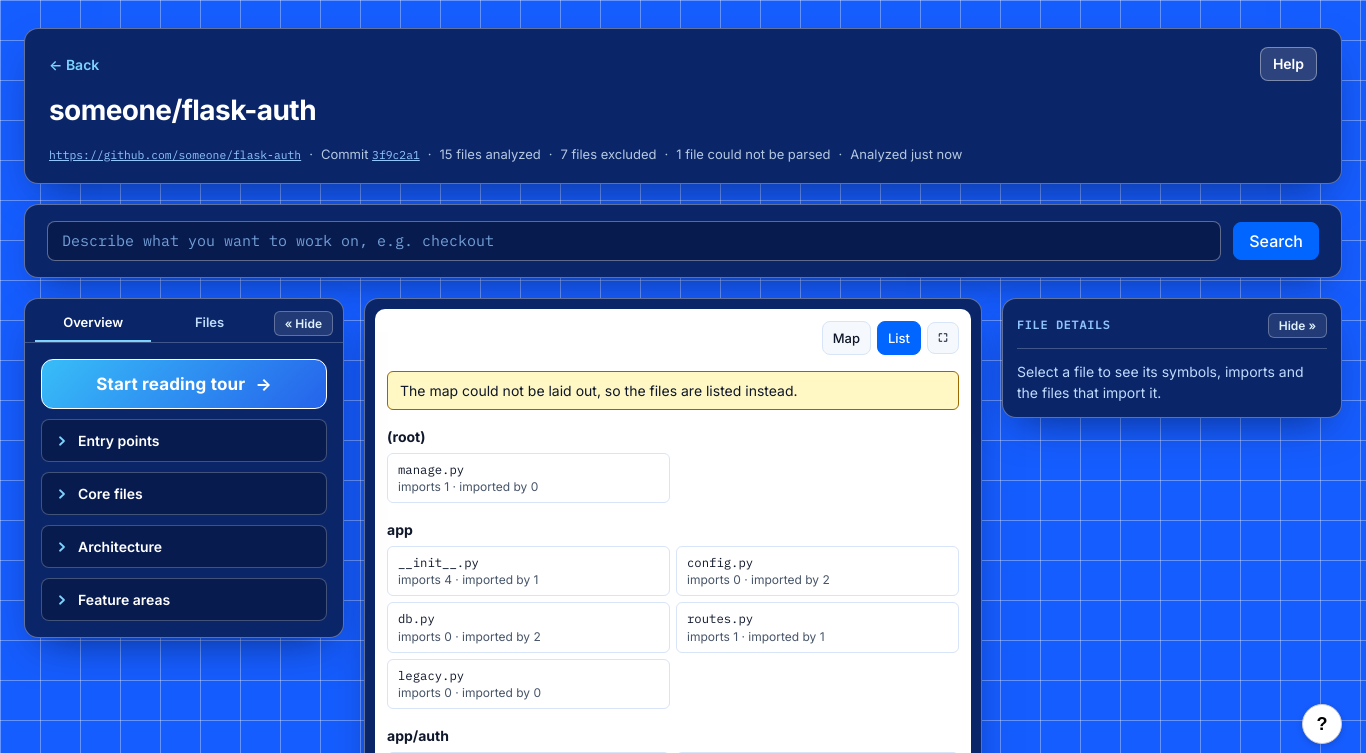
Test: AnalysisPage search › says when nothing matches
Type "kubernetes" into the search field named "Search this repository".
click(634, 240); type("kubernetes")  # box [47, 220, 1221, 260]
Then press Enter
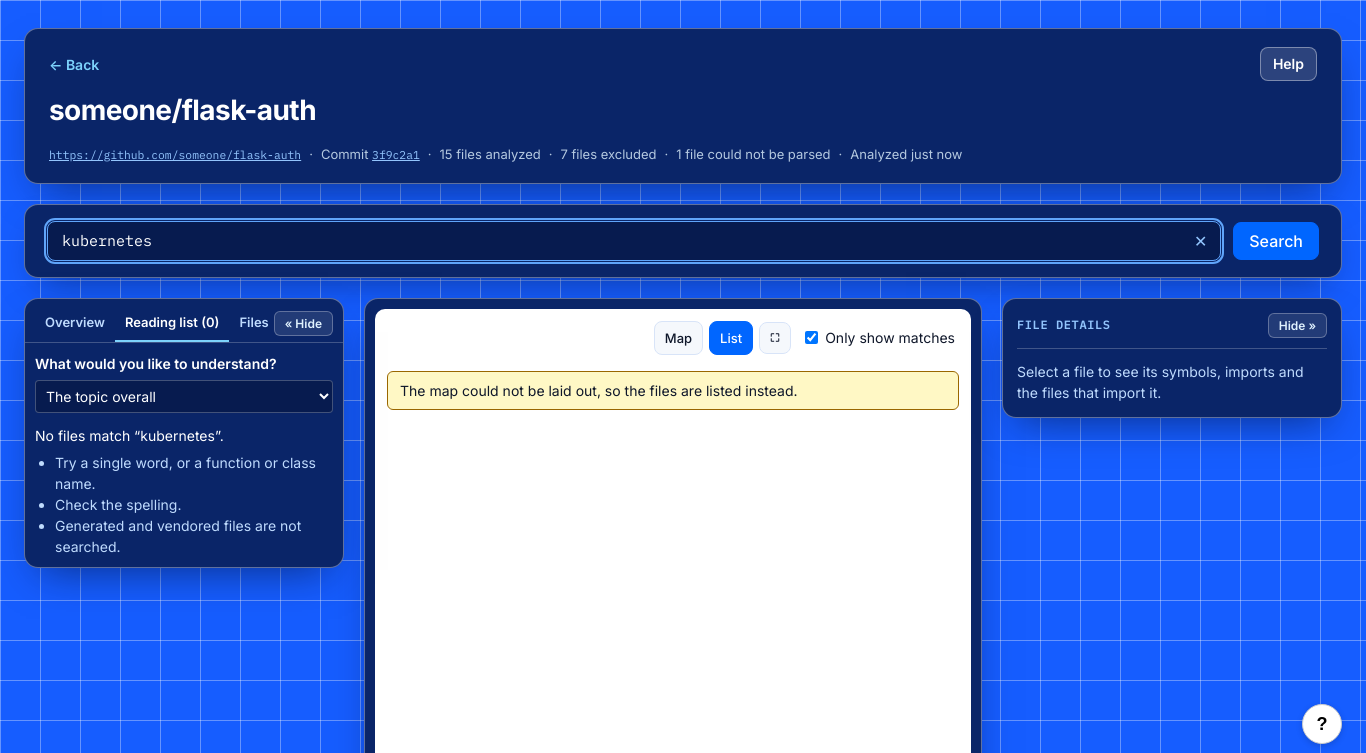
Expected: the text "No files match “kubernetes”." is shown, [35, 427, 224, 444]
